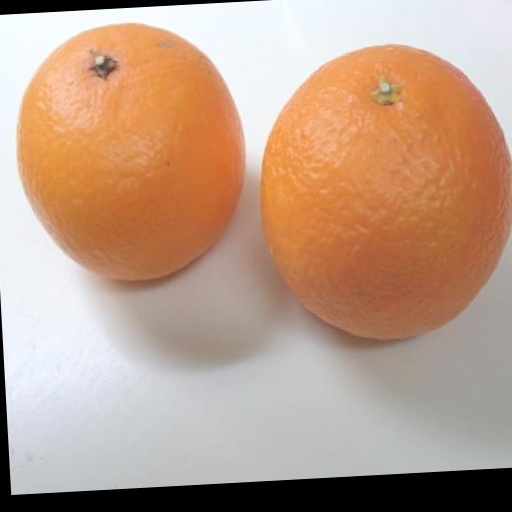fruit: (261, 46, 512, 339), (17, 24, 244, 279)
